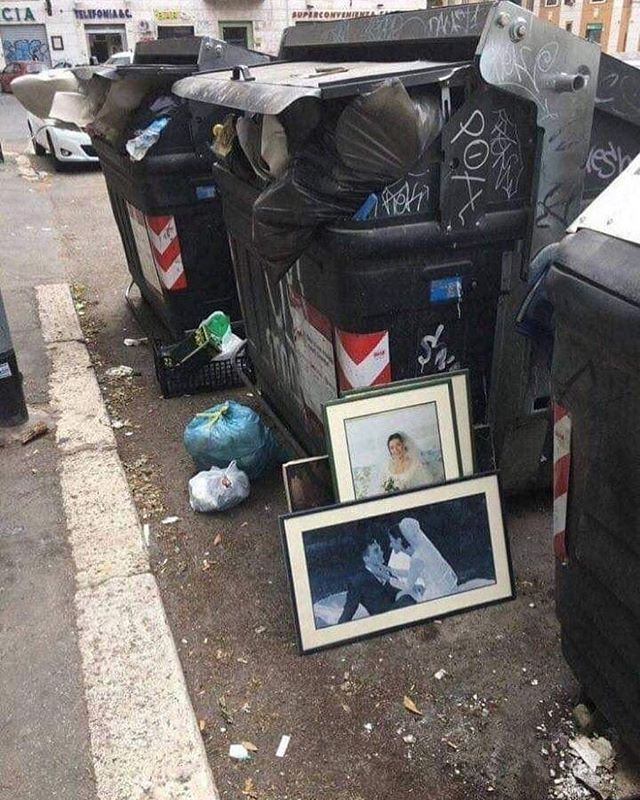dumpster: (190, 8, 616, 504), (70, 26, 240, 338)
trash: (1, 275, 551, 673)
